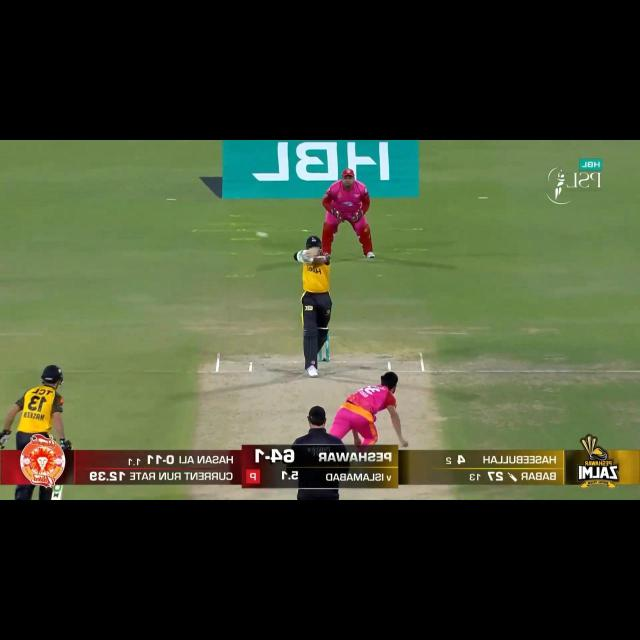bat: (302, 245, 320, 260)
toe: (50, 482, 67, 502), (312, 246, 321, 257)
